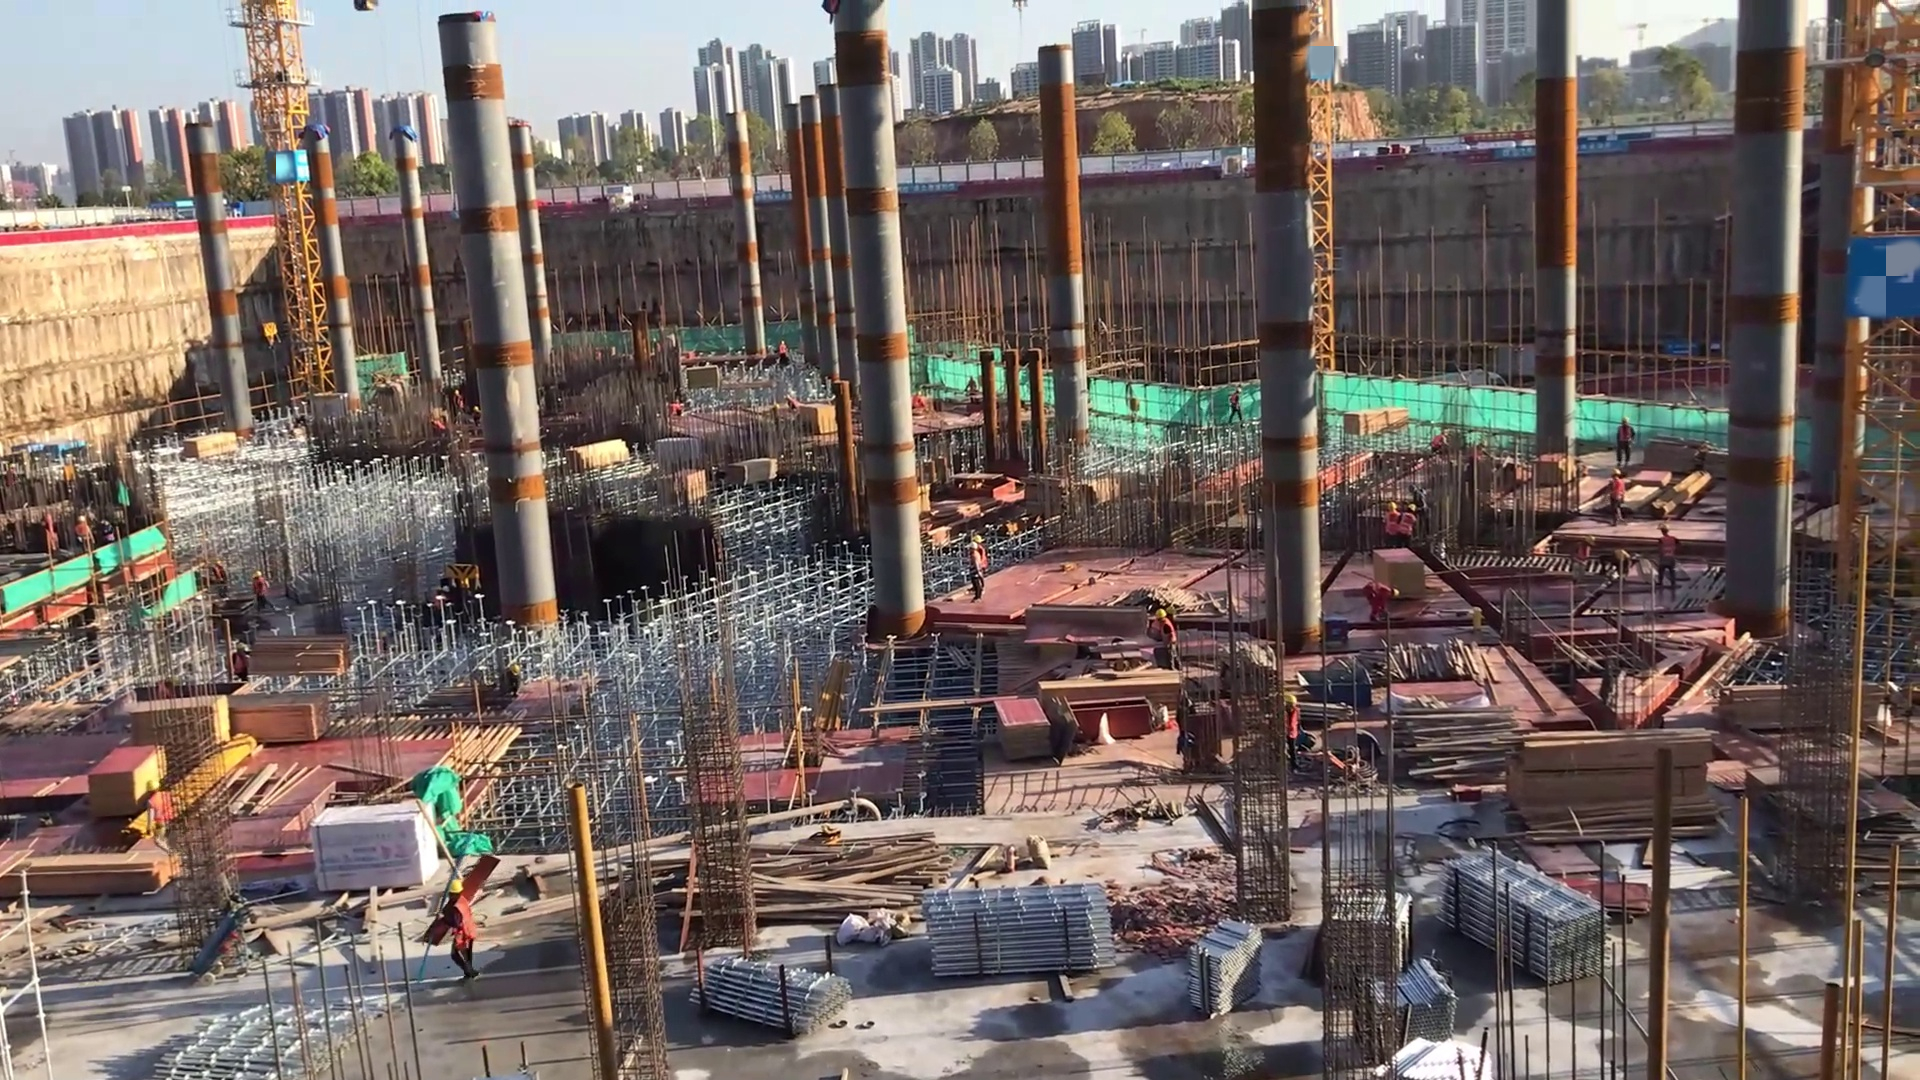helmet: (447, 877, 467, 900), (1155, 605, 1170, 624), (1280, 693, 1300, 706), (509, 661, 522, 676), (1610, 466, 1623, 480), (968, 541, 983, 554), (1659, 521, 1670, 535), (76, 512, 89, 523), (235, 643, 247, 655), (1619, 414, 1632, 424), (1388, 586, 1399, 598), (1387, 501, 1398, 513), (1405, 502, 1418, 512), (251, 571, 264, 579), (974, 535, 984, 546), (1234, 387, 1244, 395)
person: (419, 878, 485, 990), (1274, 692, 1312, 776), (1146, 607, 1184, 672), (1651, 523, 1685, 595), (1600, 464, 1633, 534), (1365, 578, 1400, 624), (498, 657, 534, 702), (962, 542, 987, 608), (1614, 412, 1639, 466), (248, 564, 271, 616), (974, 532, 992, 599), (1226, 389, 1247, 432), (227, 643, 248, 687), (1402, 502, 1420, 550), (1429, 426, 1457, 458), (1386, 497, 1401, 548), (76, 513, 93, 549), (470, 403, 486, 428), (452, 388, 467, 417), (966, 373, 975, 400)
vest: (450, 897, 478, 962), (1280, 706, 1300, 746), (1656, 535, 1678, 573), (1158, 618, 1179, 651), (1609, 476, 1625, 508), (231, 653, 248, 681), (1368, 581, 1389, 604), (251, 579, 270, 600), (76, 521, 93, 545), (1386, 512, 1401, 537), (1403, 511, 1415, 538), (1618, 425, 1631, 449)
